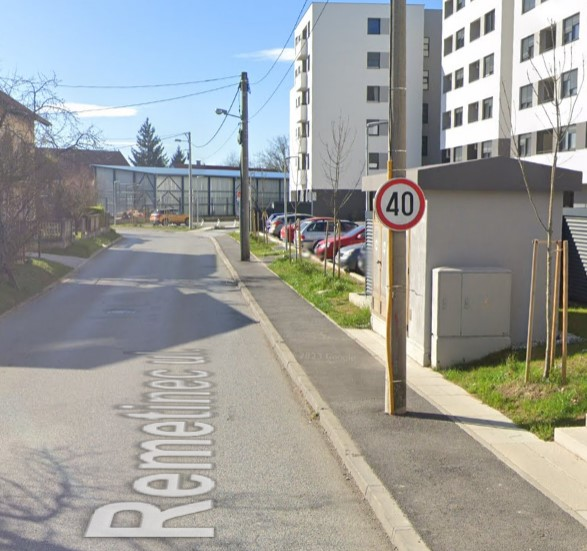Ograničenje brzine 40: (374, 179, 426, 231)
